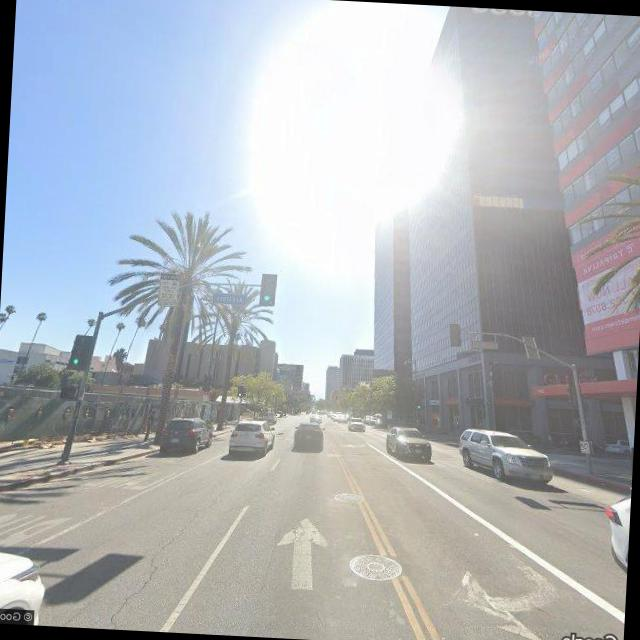pothole: (73, 501, 207, 634)
